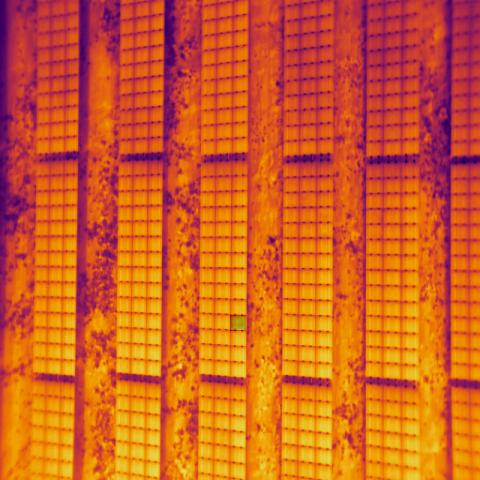fault: (230, 315, 246, 331)
